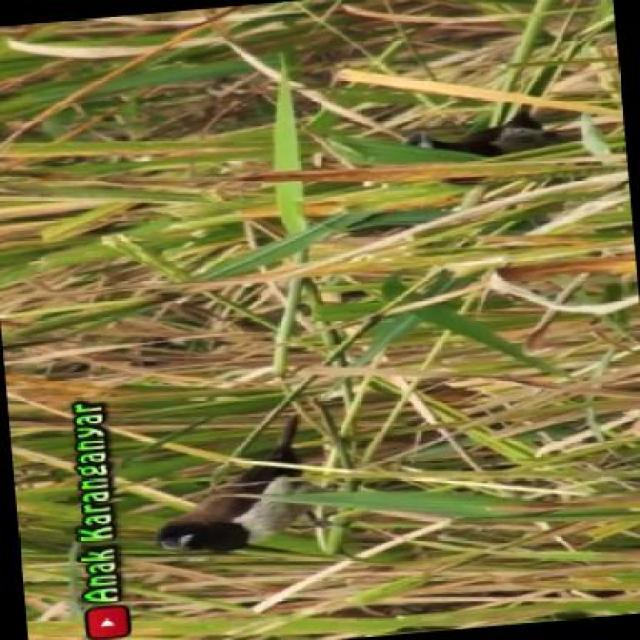Bird: (156, 413, 319, 561), (402, 112, 577, 154)
